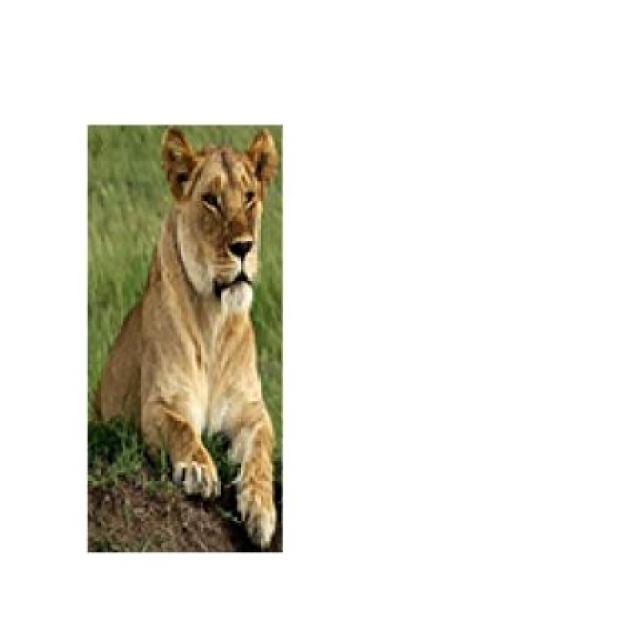Lion: (79, 105, 298, 572)
